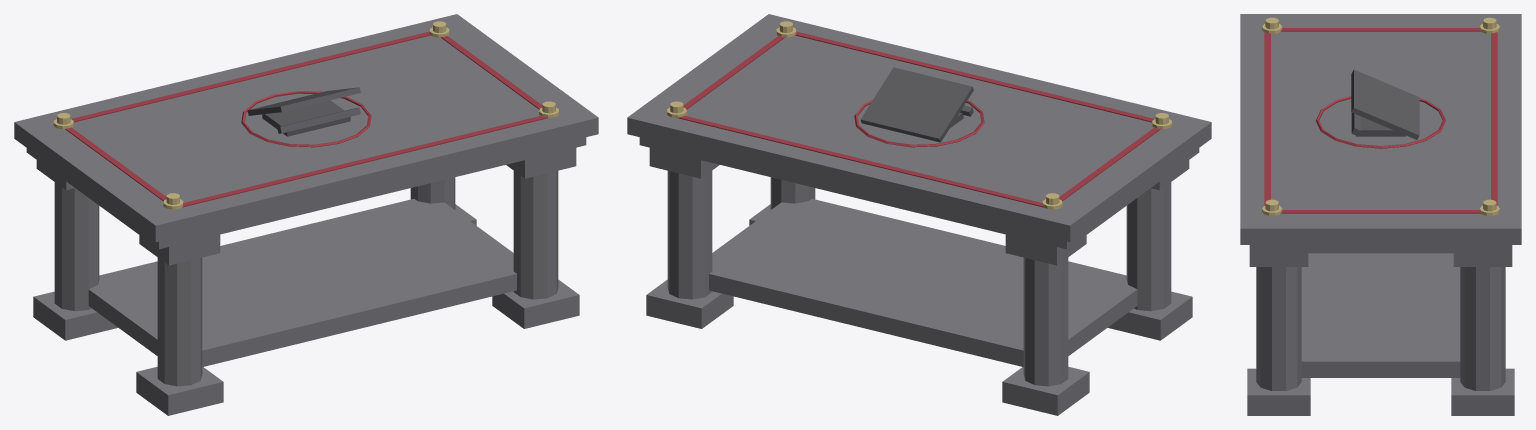
File: altar.glb
3 views of the same model, side by side, from view 1: azimuth 30°, elevation 25°; view 2: azimuth 150°, elevation 25°; view 3: azimuth 270°, elevation 25° (orthographic).
Parts seen in each view (by area): view 1: Altar; view 2: Altar; view 3: Altar.
Part boxes in pixels (bbox=[...]): Altar: bbox=[14, 14, 598, 415]; Altar: bbox=[627, 14, 1211, 415]; Altar: bbox=[1240, 14, 1521, 415].
Bounding box in the file's own units: 2.24 × 1.11 × 1.24.
